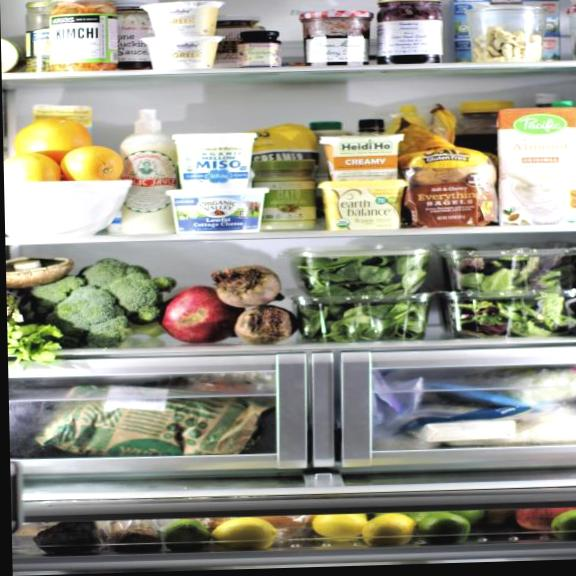apple: (162, 285, 236, 342), (416, 515, 472, 542), (550, 509, 576, 539)
bread: (404, 137, 499, 227)
broccoli: (56, 263, 167, 345)
lemon: (13, 116, 95, 155), (212, 518, 278, 549), (63, 147, 125, 178), (3, 153, 63, 182), (366, 514, 416, 544), (311, 513, 365, 540)
milk: (497, 102, 576, 224)
mushroom: (6, 256, 70, 286)
parsley: (7, 322, 57, 356)
yoghurt: (168, 186, 271, 234), (172, 131, 258, 188), (140, 0, 224, 37), (141, 34, 225, 69)
